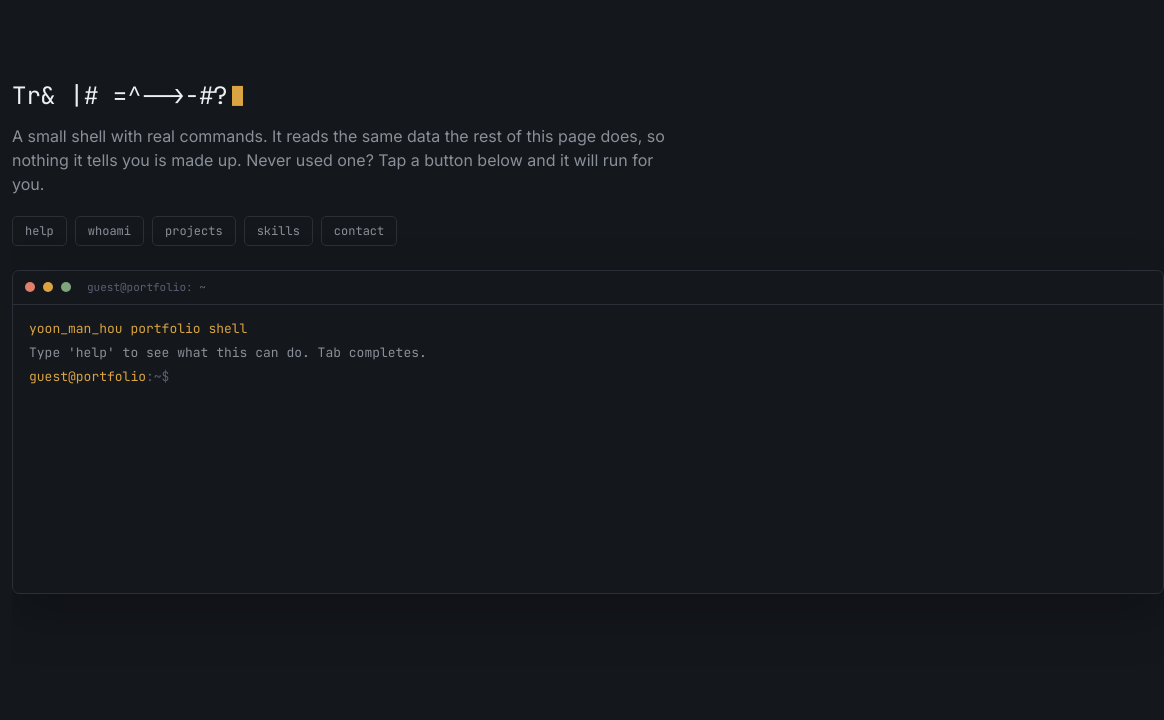
Test case: TerminalDemo › keeps history across a clear, the way a real shell does
Click the field named "terminal input".
click(658, 376)  # box [169,364,1147,388]
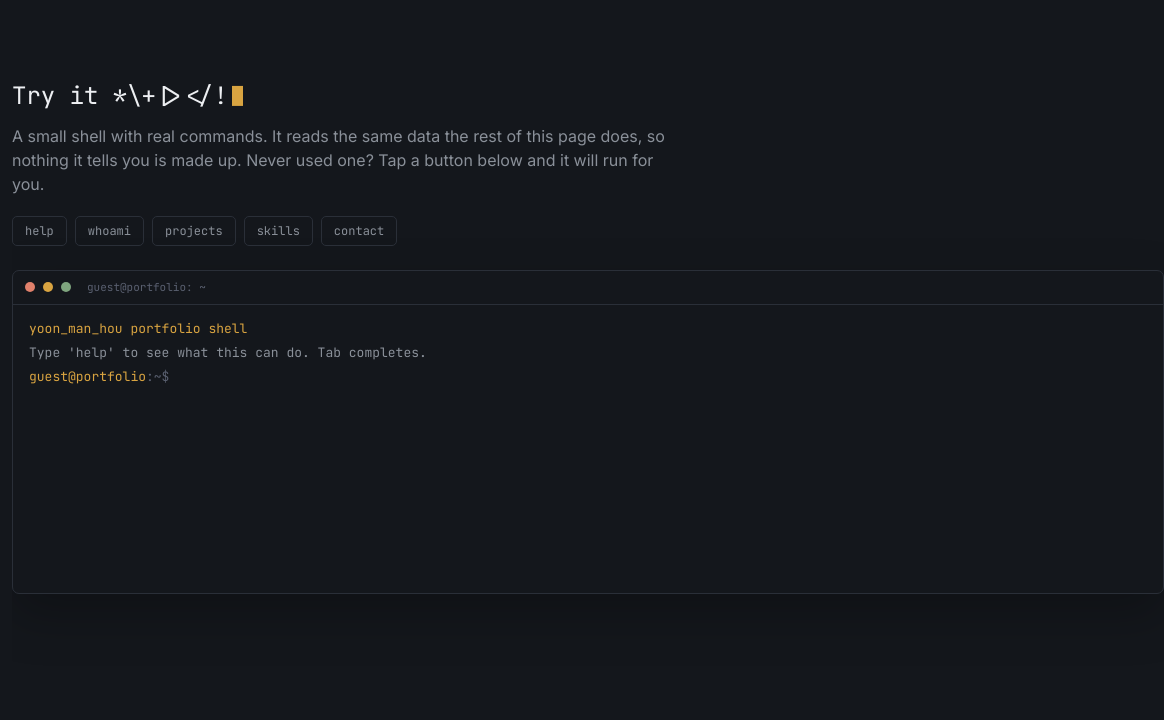
Type keys "whoami{Enter}"
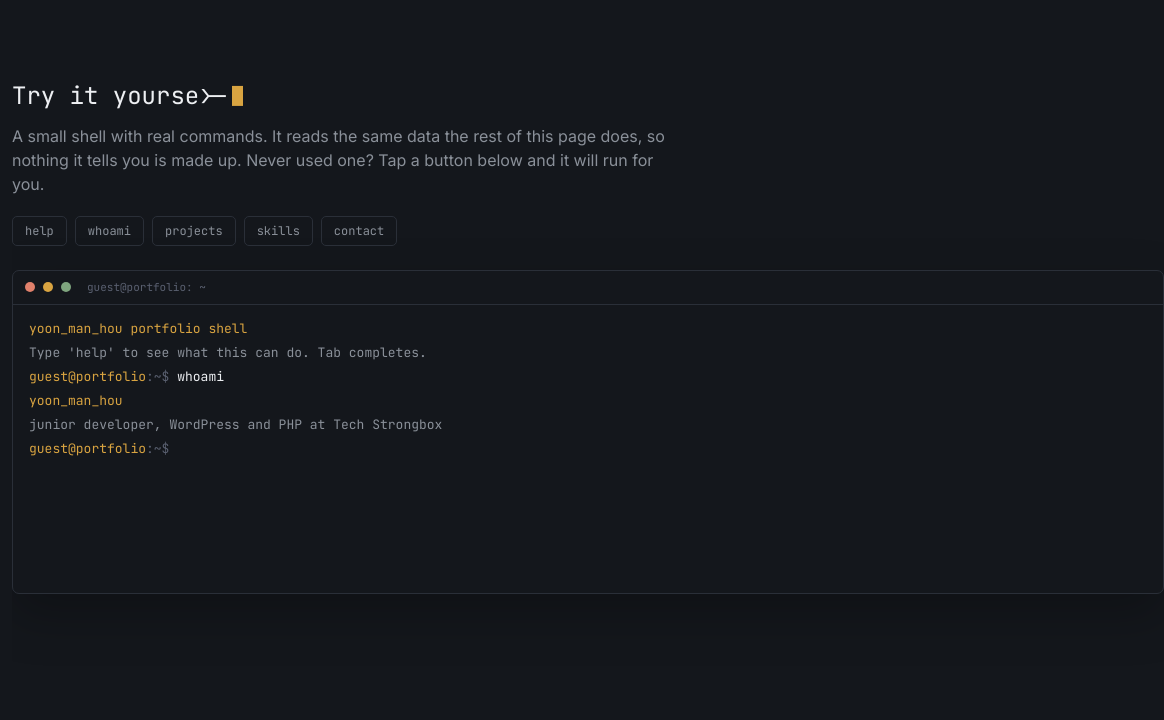
Type keys "clear{Enter}"
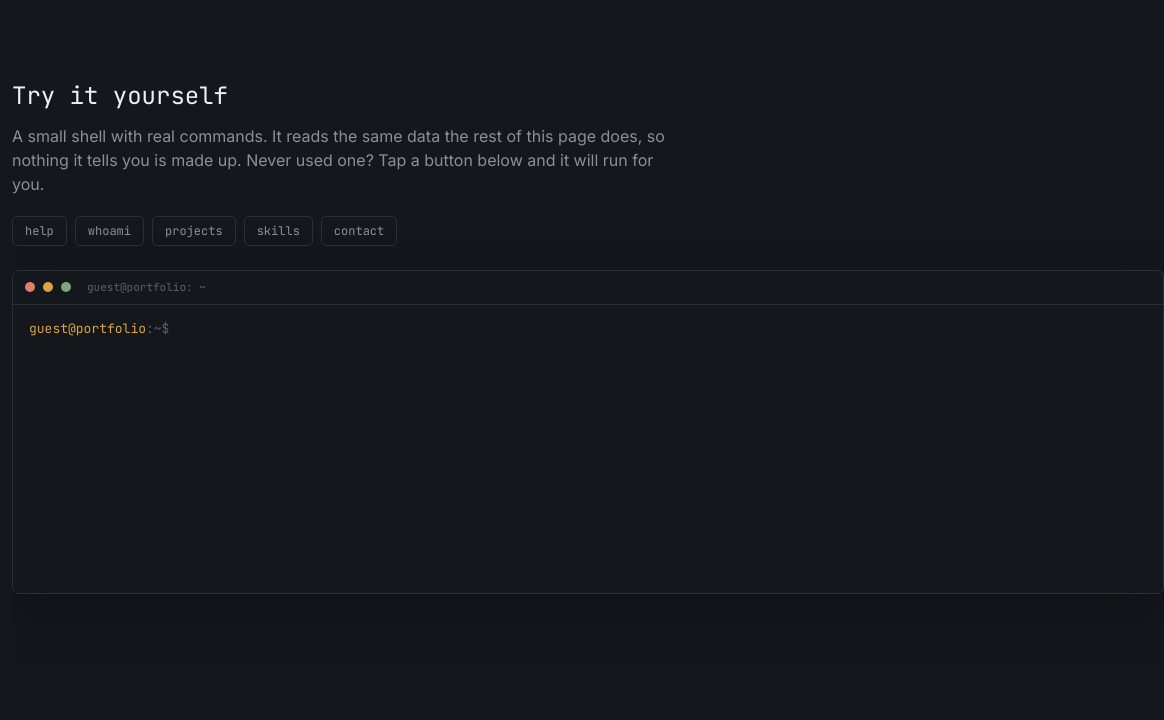
Press Arrowup
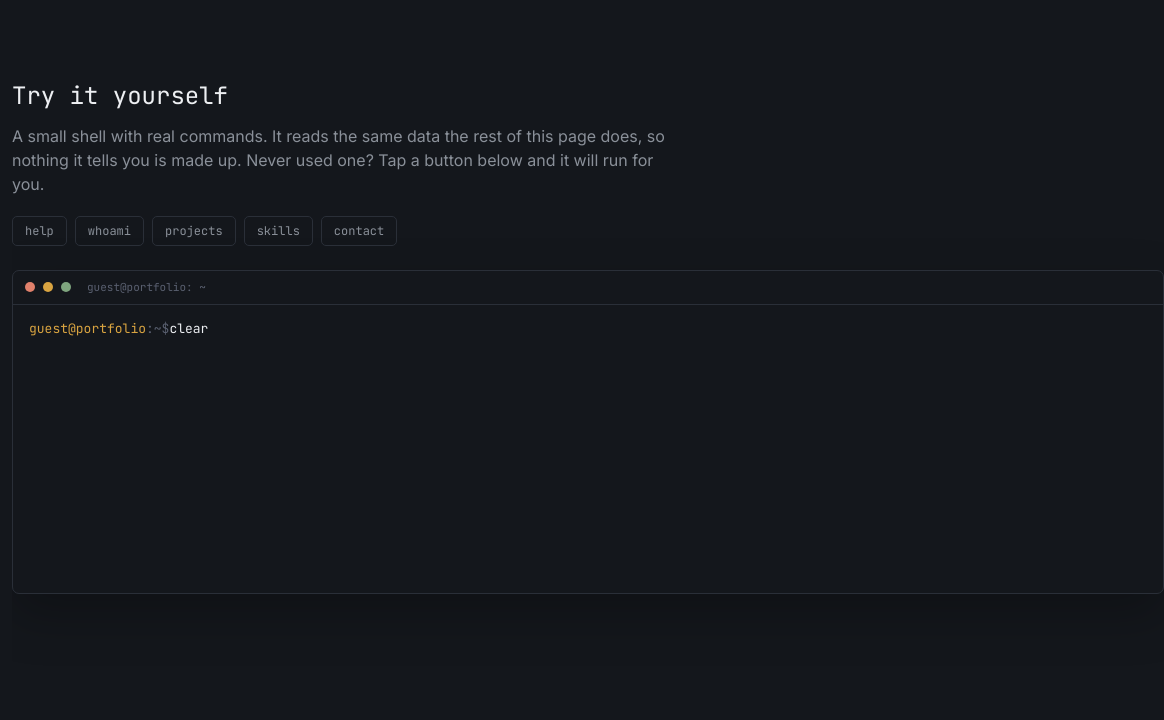
expect the field named "terminal input" holds "clear": met, box [169,316,1147,340]
Press Arrowup
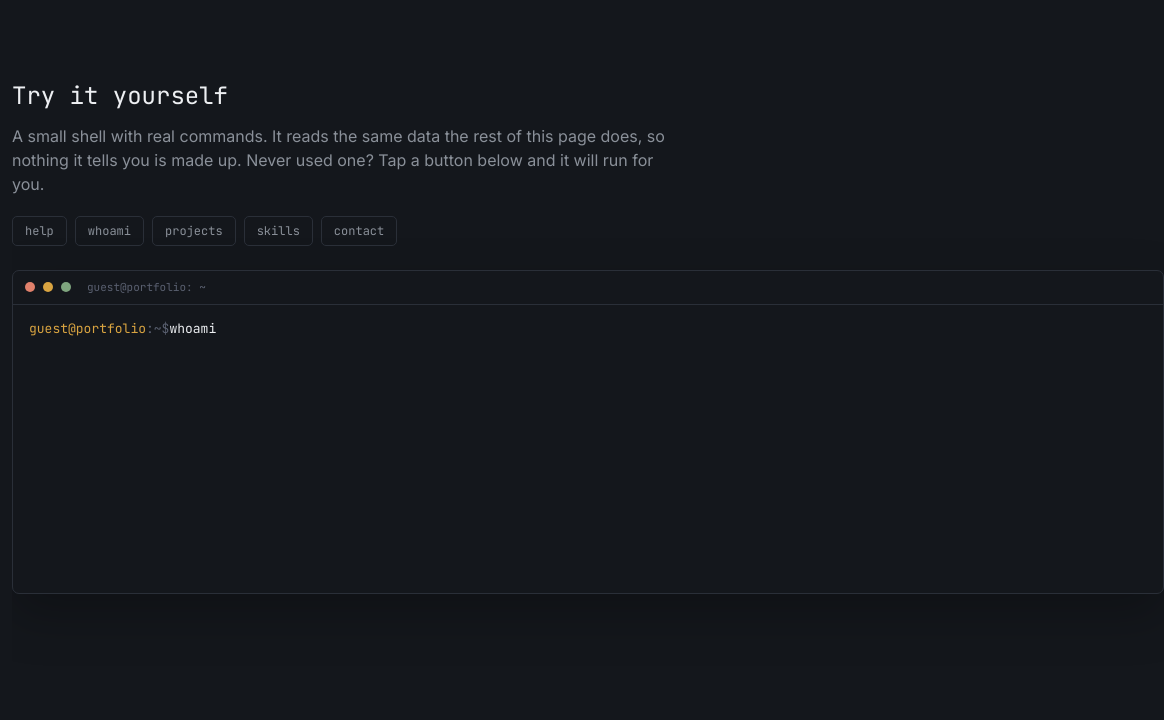
expect the field named "terminal input" holds "whoami": met, box [169,316,1147,340]
